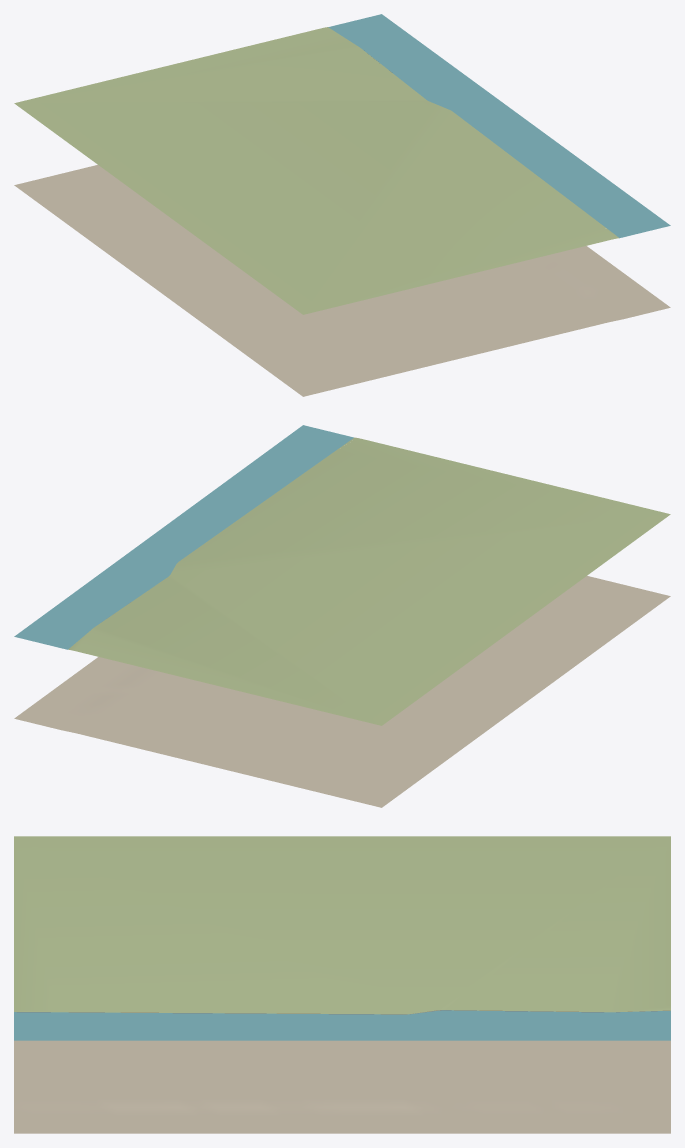
The picture shows the model from 3 angles, top to bottom: view 1: azimuth 30°, elevation 25°; view 2: azimuth 150°, elevation 25°; view 3: azimuth 270°, elevation 25°; orthographic projection. The views are drawn at different scales.
Parts seen in each view (by area): view 1: s_-13_-3__grass, s_-13_-3__soil, s_-13_-3__water; view 2: s_-13_-3__grass, s_-13_-3__soil, s_-13_-3__water; view 3: s_-13_-3__grass, s_-13_-3__soil, s_-13_-3__water, s_-13_-3__shore_bank_completion.
Part boxes in pixels (x1,y1,x2,y2): s_-13_-3__grass: (14,27,618,314); s_-13_-3__soil: (14,165,670,396); s_-13_-3__water: (328,14,670,238); s_-13_-3__grass: (68,437,670,725); s_-13_-3__soil: (14,576,670,807); s_-13_-3__water: (14,425,353,649); s_-13_-3__grass: (14,836,670,1014); s_-13_-3__soil: (14,1040,670,1133); s_-13_-3__water: (14,1010,670,1040); s_-13_-3__shore_bank_completion: (17,1010,603,1014).
Bounding box in the file's own units: 94 × 20.14 × 128.
